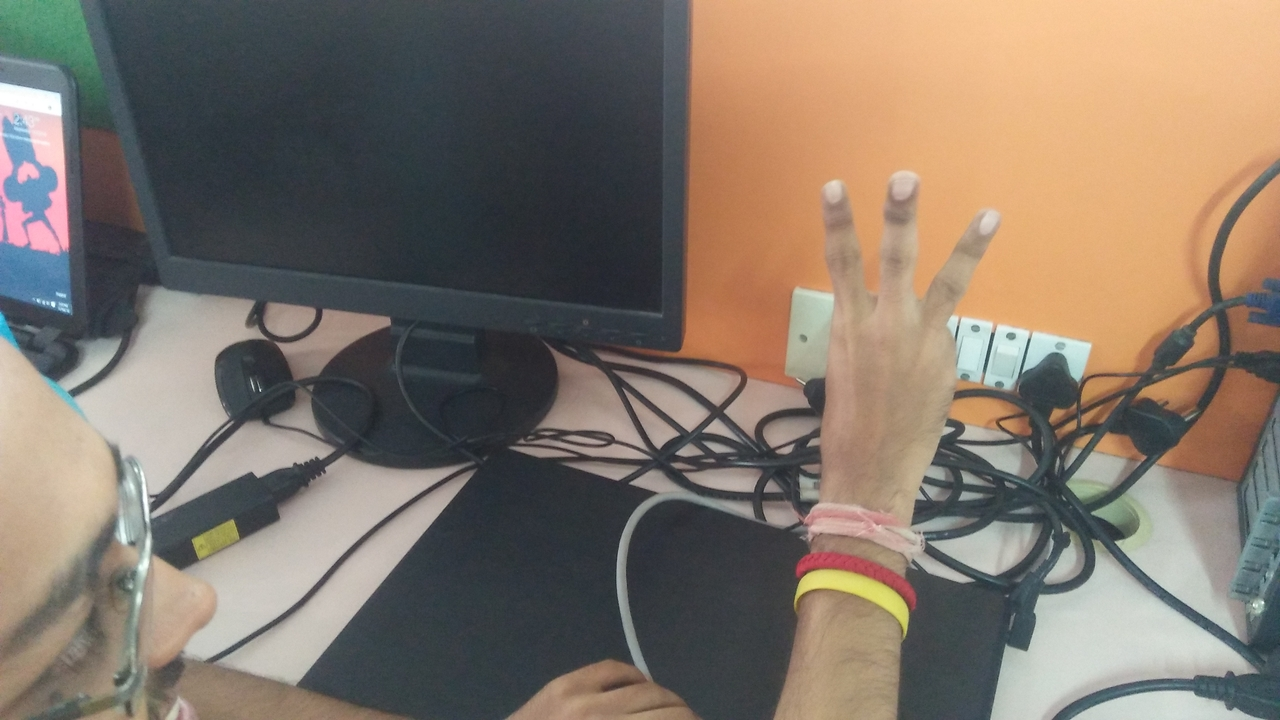fingertip: (956, 194, 1014, 244), (880, 160, 934, 202), (816, 168, 860, 210)
